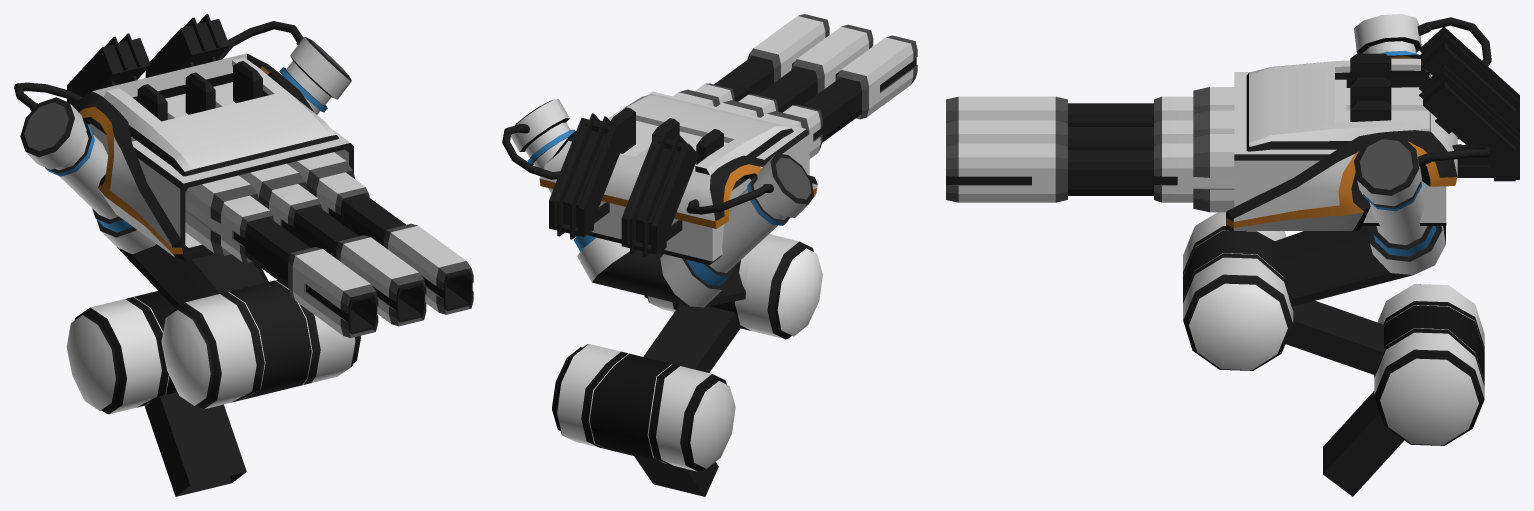
File: tower_cannon_upgrade2_asset.fbx
3 views of the same model, side by side, from view 1: azimuth 30°, elevation 25°; view 2: azimuth 150°, elevation 25°; view 3: azimuth 270°, elevation 25° (orthographic). The views are drawn at different scales.
Visible parts, largest first — view 1: cannon3_top, cannon3_bottom, cannon3_head, cannon3_mid_head, cannon3_drawback; view 2: cannon3_top, cannon3_bottom, cannon3_head, cannon3_mid_head, cannon3_drawback; view 3: cannon3_top, cannon3_bottom, cannon3_head, cannon3_mid_head, cannon3_drawback.
Boxes of the visible parts, <box> form: cannon3_top: <box>14,14,472,409</box>; cannon3_bottom: <box>66,291,246,496</box>; cannon3_head: <box>288,223,473,337</box>; cannon3_mid_head: <box>185,172,369,262</box>; cannon3_drawback: <box>137,61,262,121</box>; cannon3_top: <box>502,47,916,339</box>; cannon3_bottom: <box>552,304,741,496</box>; cannon3_head: <box>747,14,917,119</box>; cannon3_mid_head: <box>695,83,822,158</box>; cannon3_drawback: <box>610,107,723,173</box>; cannon3_top: <box>946,14,1519,370</box>; cannon3_bottom: <box>1286,284,1484,496</box>; cannon3_head: <box>946,96,1067,202</box>; cannon3_mid_head: <box>1154,96,1234,202</box>; cannon3_drawback: <box>1350,53,1391,121</box>.
Size of the model in its own units: 43.14 by 55.48 by 66.42.
